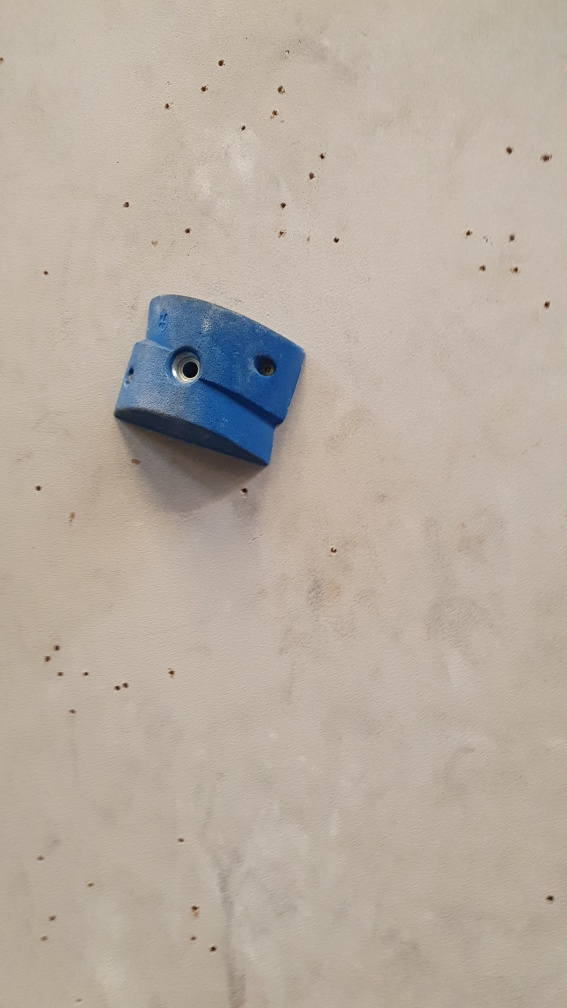Pinch: (115, 282, 306, 477)
